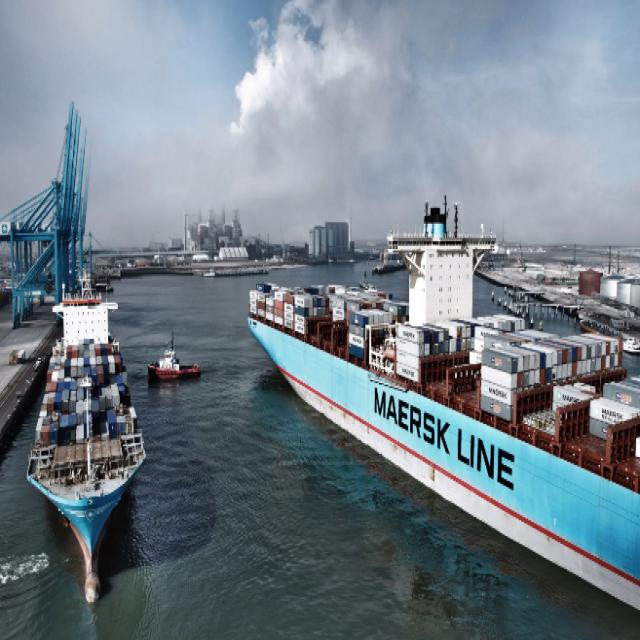cargoship: (247, 274, 640, 610), (28, 275, 143, 608), (147, 330, 199, 382)
